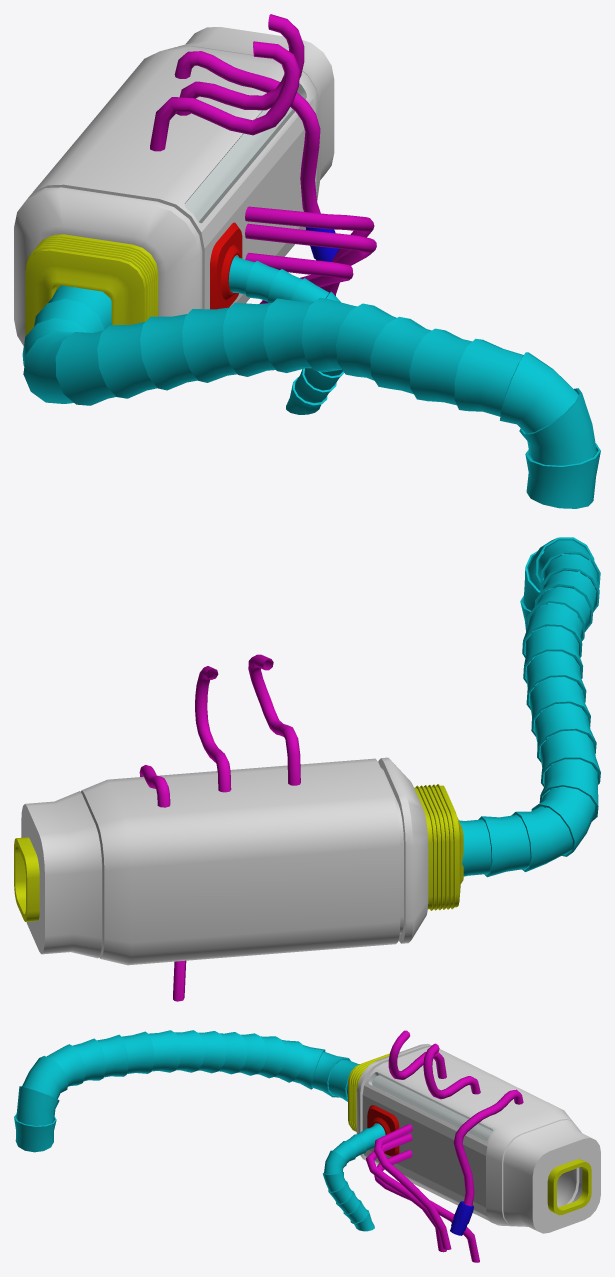
The model's file is repartiteur2.fbx.
3 renders of one model, top to bottom at view 1: azimuth 30°, elevation 25°; view 2: azimuth 150°, elevation 25°; view 3: azimuth 270°, elevation 25°, orthographic. The views are drawn at different scales.
Visible parts, largest first — view 1: BezierCurve.005; view 2: BezierCurve.005; view 3: BezierCurve.005.
Boxes of the visible parts, bbox=[...] form: BezierCurve.005: bbox=[14, 14, 600, 508]; BezierCurve.005: bbox=[14, 537, 600, 1001]; BezierCurve.005: bbox=[14, 1030, 600, 1262].
Size of the model in its own units: 70.81 by 52.6 by 129.
